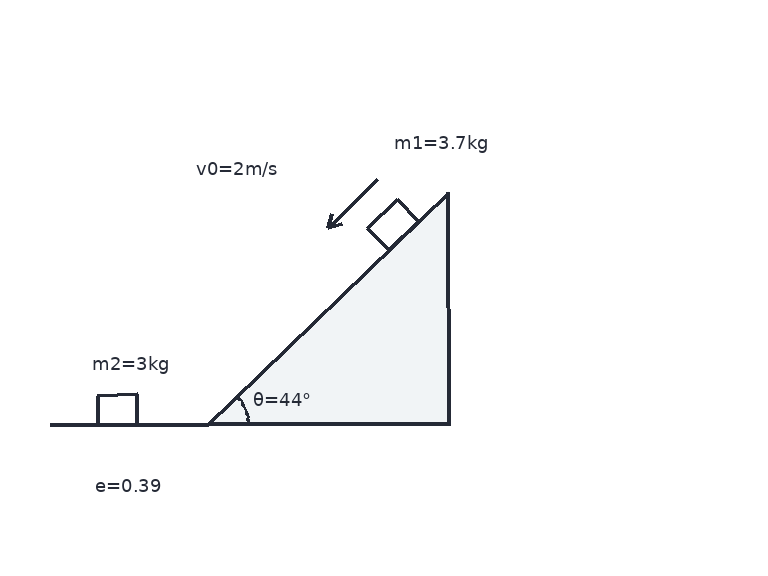block: (365, 197, 420, 252), (95, 393, 139, 426)
ramp: (206, 190, 450, 426)
